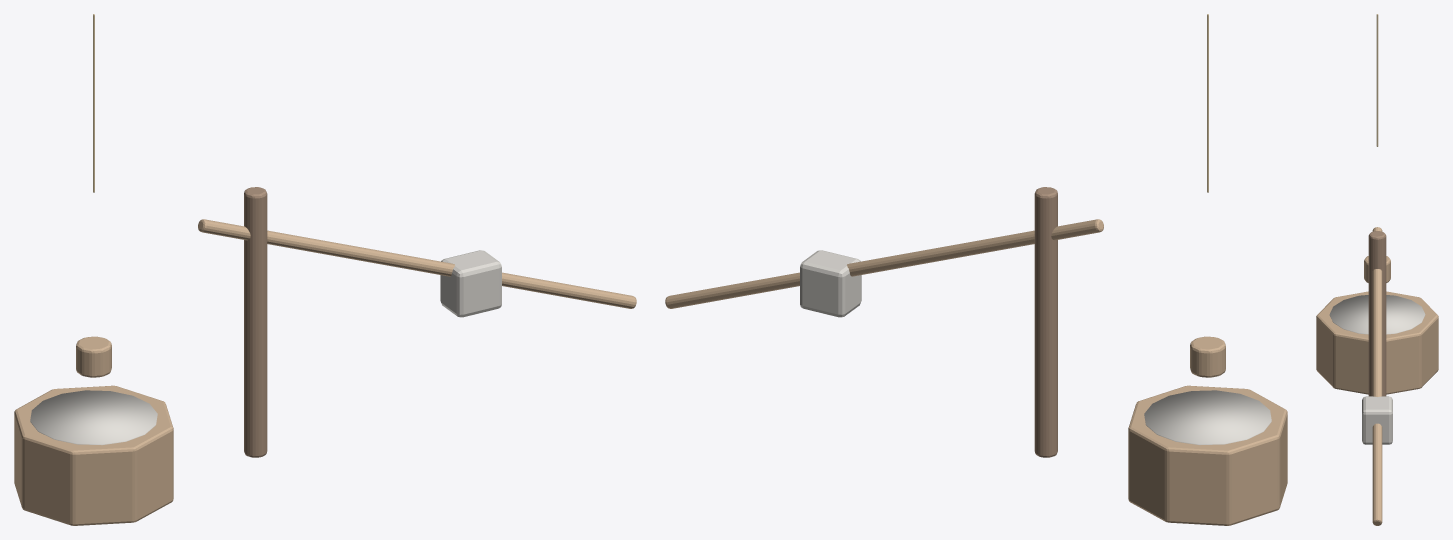
The model's file is vg_crane_well.glb.
3 views of the same model, side by side, from view 1: azimuth 30°, elevation 25°; view 2: azimuth 150°, elevation 25°; view 3: azimuth 270°, elevation 25° (orthographic). The views are drawn at different scales.
Visible parts, largest first — view 1: vg_crane_well; view 2: vg_crane_well; view 3: vg_crane_well.
Part boxes in pixels (bbox=[...]): vg_crane_well: bbox=[14, 14, 636, 525]; vg_crane_well: bbox=[665, 14, 1287, 525]; vg_crane_well: bbox=[1316, 14, 1438, 525].
Size of the model in its own units: 6.82 by 5.1 by 1.59.
